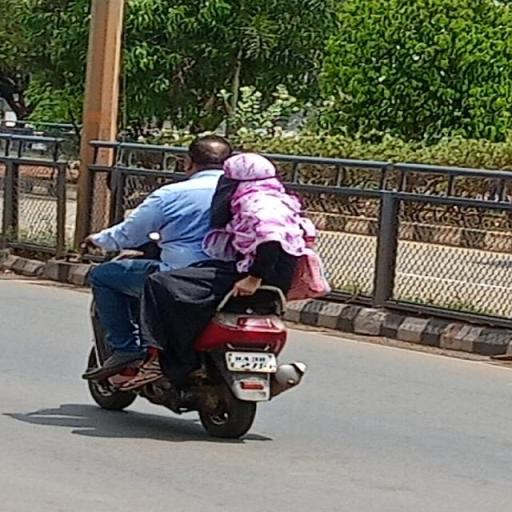bike: (73, 130, 337, 442)
withouthelmet: (223, 154, 275, 194), (187, 137, 230, 171)
